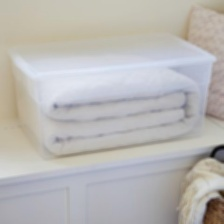plastic_box: (1, 25, 222, 165)
